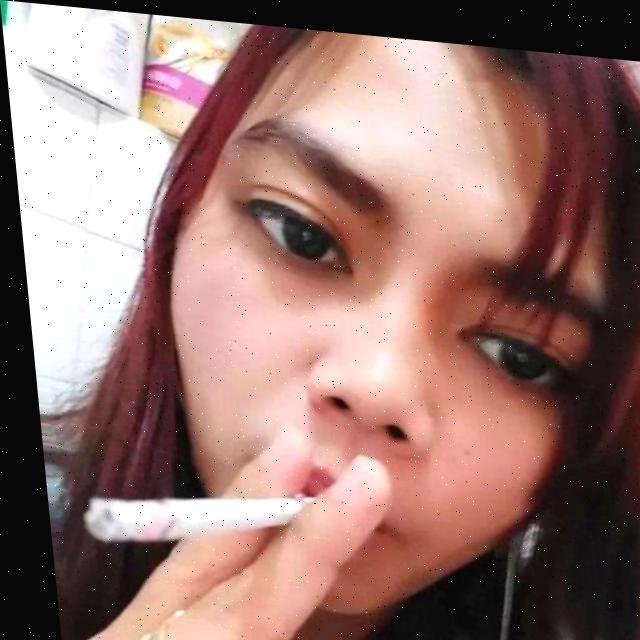cigarette: (70, 474, 307, 559)
